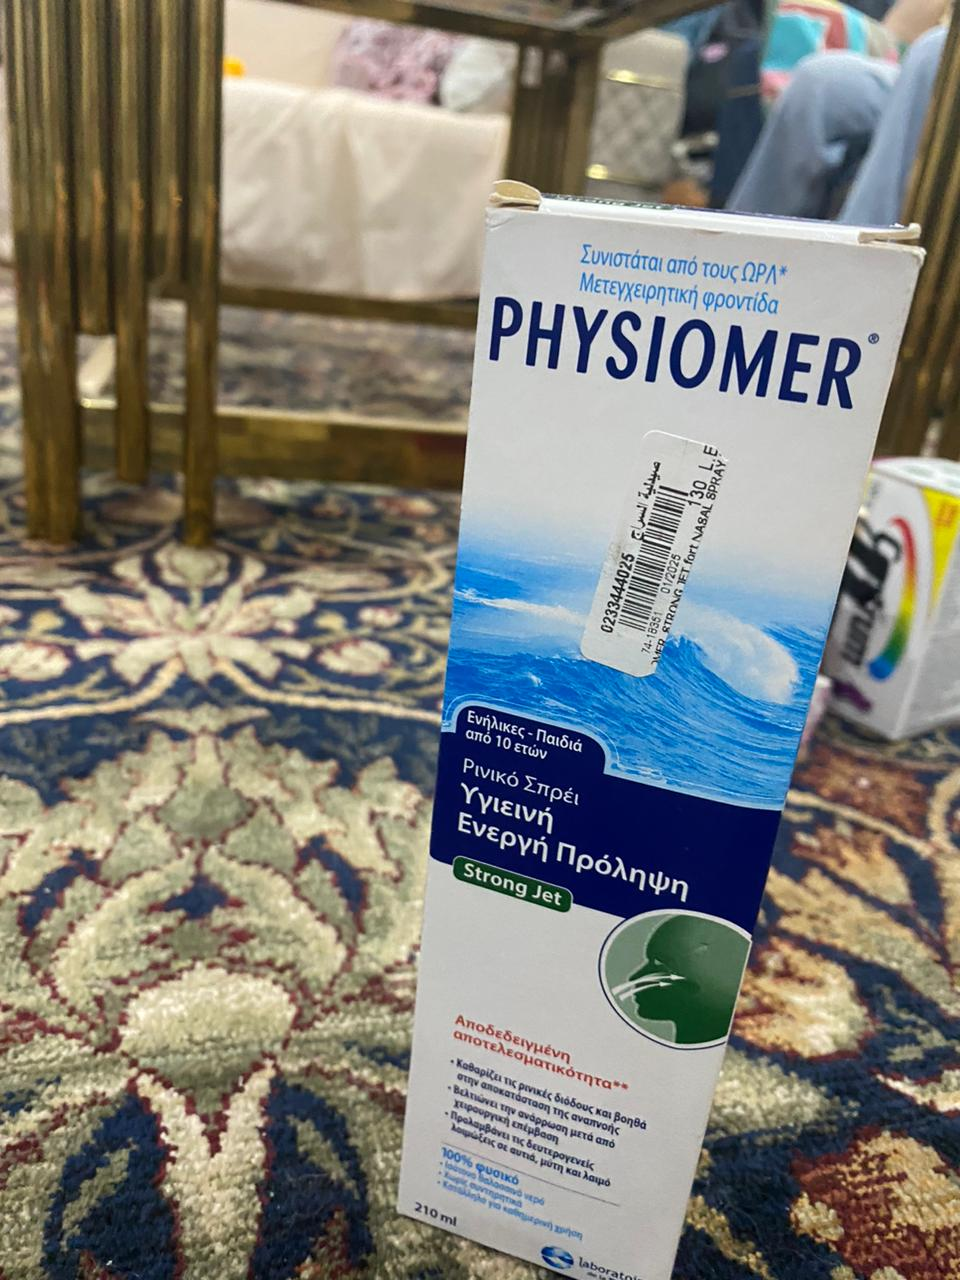Centrum: (825, 460, 960, 742)
Physiomer: (388, 182, 921, 1280)
